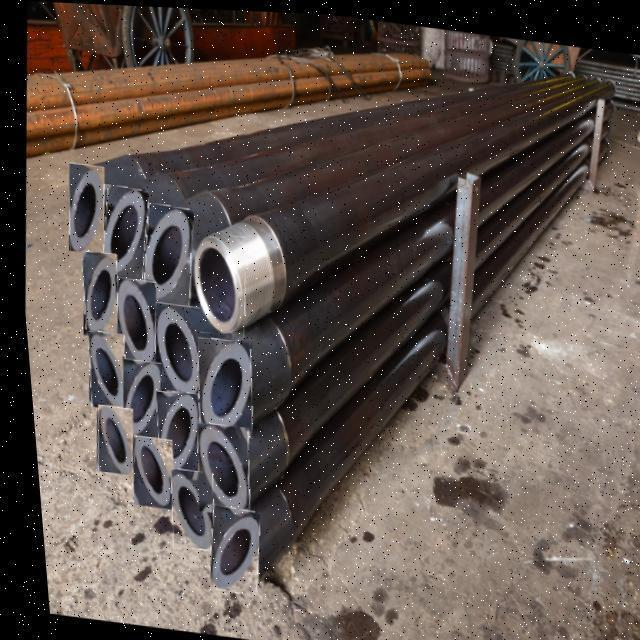pipe: (185, 228, 241, 336), (137, 201, 190, 309), (192, 335, 245, 436), (190, 421, 241, 515), (97, 183, 145, 280), (200, 503, 251, 593), (149, 301, 194, 400), (149, 389, 195, 478), (110, 276, 151, 366), (162, 468, 204, 549), (115, 357, 155, 440), (77, 251, 115, 337), (65, 162, 100, 254), (125, 434, 164, 507), (83, 331, 119, 409), (90, 403, 126, 474)
